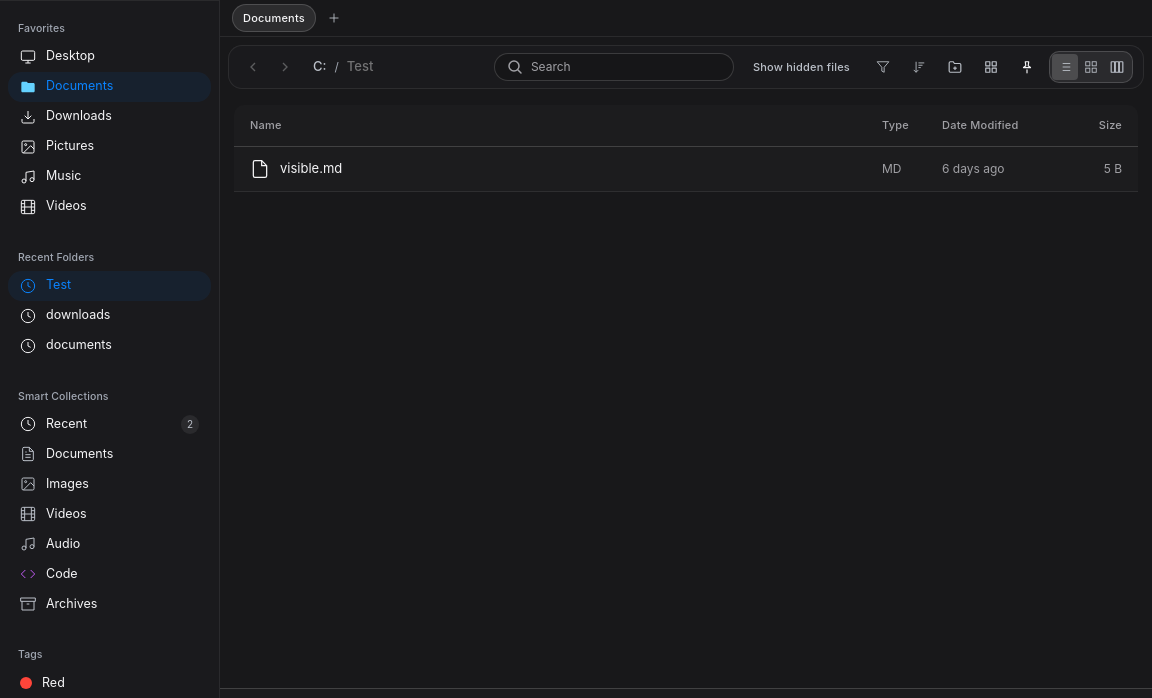
Test: shows hidden files and reads disk usage through the existing native scan
Later steps or results of the test are not shown.
Expected: the text "visible.md" is shown, top-left (280, 159), bottom-right (342, 178)
Expected: the text ".private.md" is not shown
Click the button "Show hidden files": (801, 67) top-left (742, 53), bottom-right (861, 81)
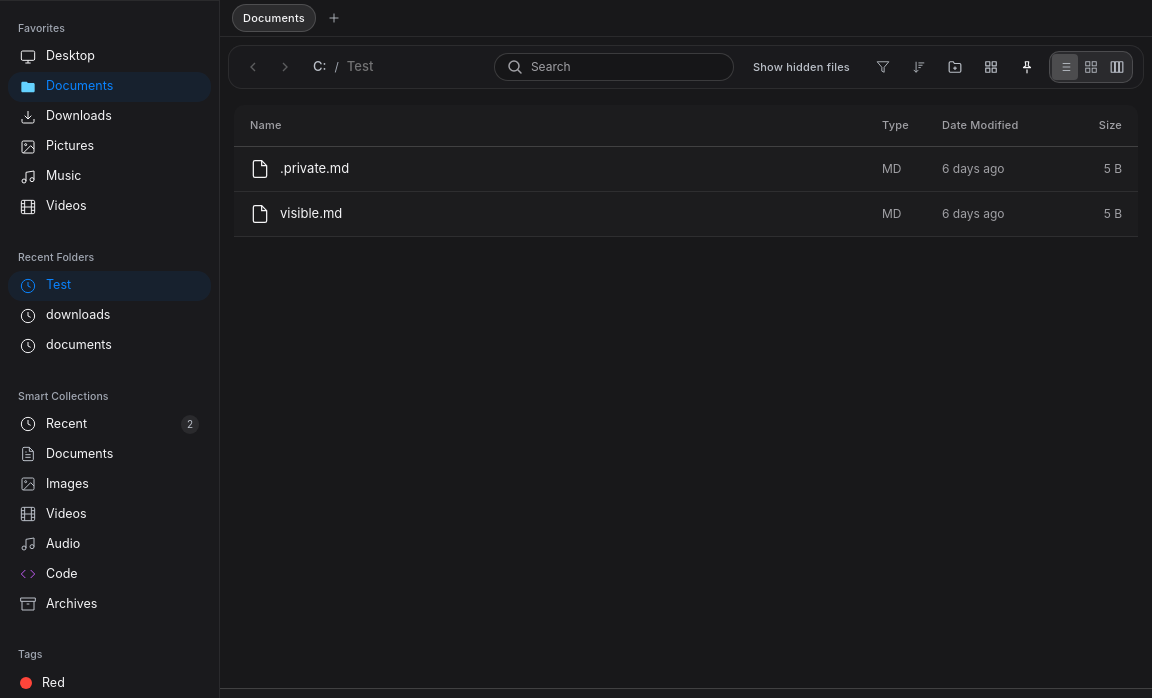
Expected: the text ".private.md" is shown, top-left (280, 159), bottom-right (349, 178)
Click the button named "Toggle filters": (883, 67) top-left (869, 53), bottom-right (897, 81)
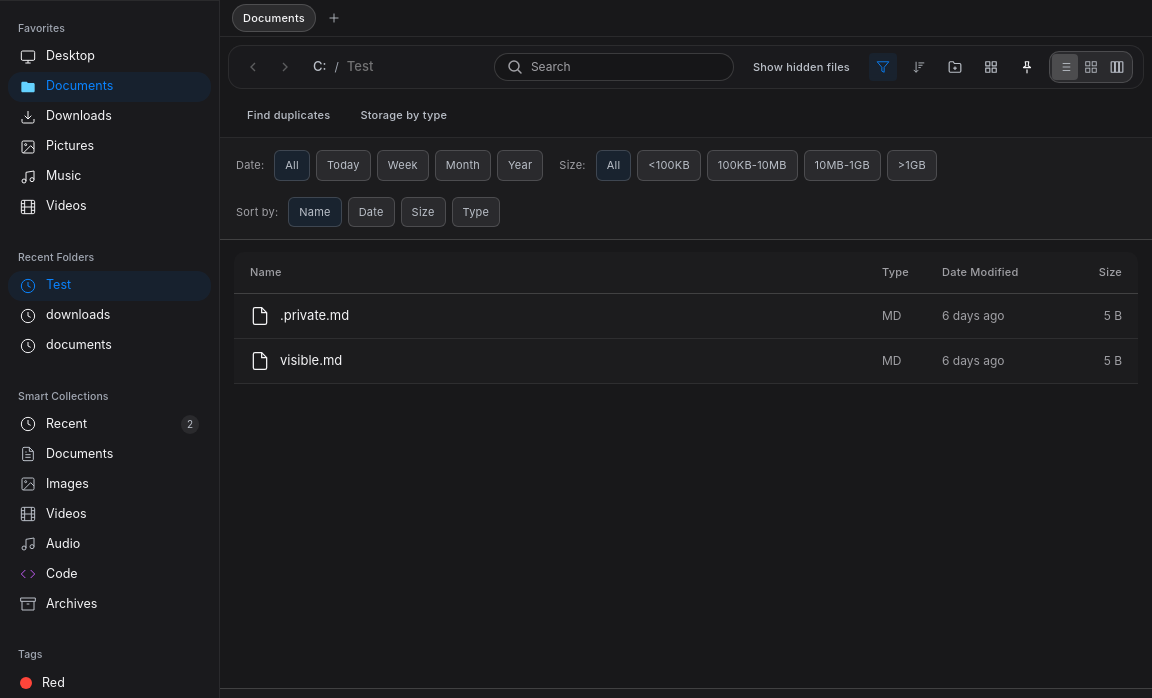
Click the button "Storage by type": (404, 115) top-left (349, 101), bottom-right (458, 129)
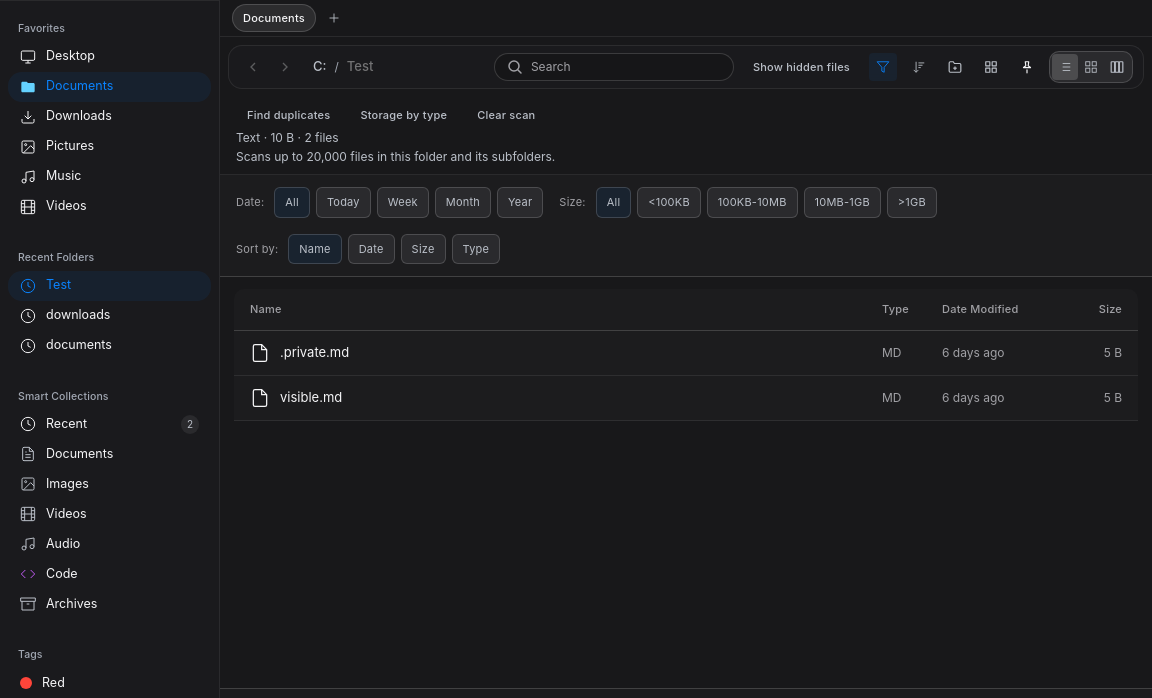
Expected: the list item "Text · 10 B · 2 files" is shown, top-left (236, 130), bottom-right (339, 145)
